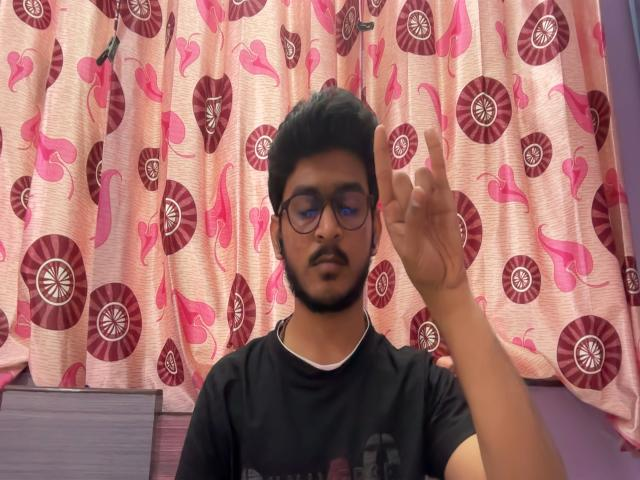I Love You: (363, 114, 484, 310)
